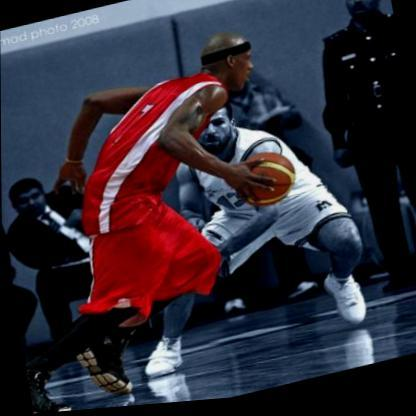basketball: (229, 147, 298, 218)
